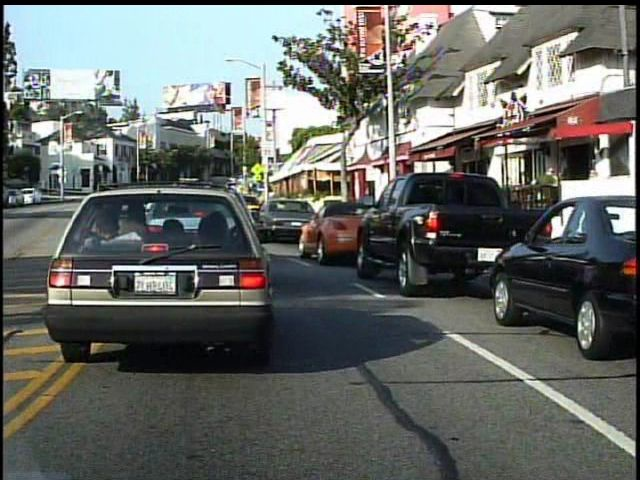person: (533, 162, 560, 231)
